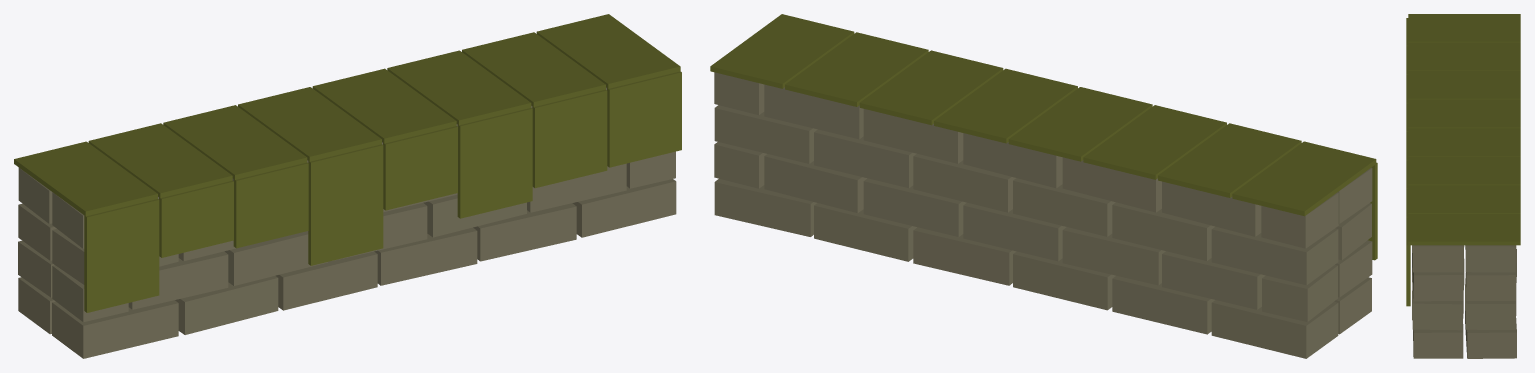
File: SM_PretilTramo_v4_Red_e0_Sano_LOD0.fbx
The picture shows the model from 3 angles, left to right: view 1: azimuth 30°, elevation 25°; view 2: azimuth 150°, elevation 25°; view 3: azimuth 270°, elevation 25°; orthographic projection. The views are drawn at different scales.
Parts seen in each view (by area): view 1: SM_pretil_azotea_v16_LOD0; view 2: SM_pretil_azotea_v16_LOD0; view 3: SM_pretil_azotea_v16_LOD0.
Part boxes in pixels (x1=…): SM_pretil_azotea_v16_LOD0: x1=14, y1=14, x2=681, y2=358; SM_pretil_azotea_v16_LOD0: x1=710, y1=14, x2=1377, y2=358; SM_pretil_azotea_v16_LOD0: x1=1406, y1=14, x2=1520, y2=358.
Size of the model in its own units: 5.08 by 1.23 by 1.08.
